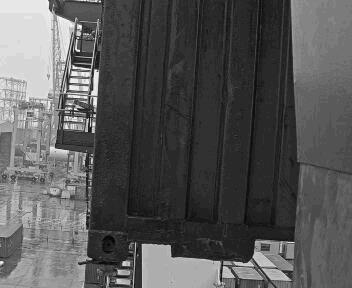twist_lock_1: (142, 140, 167, 159)
